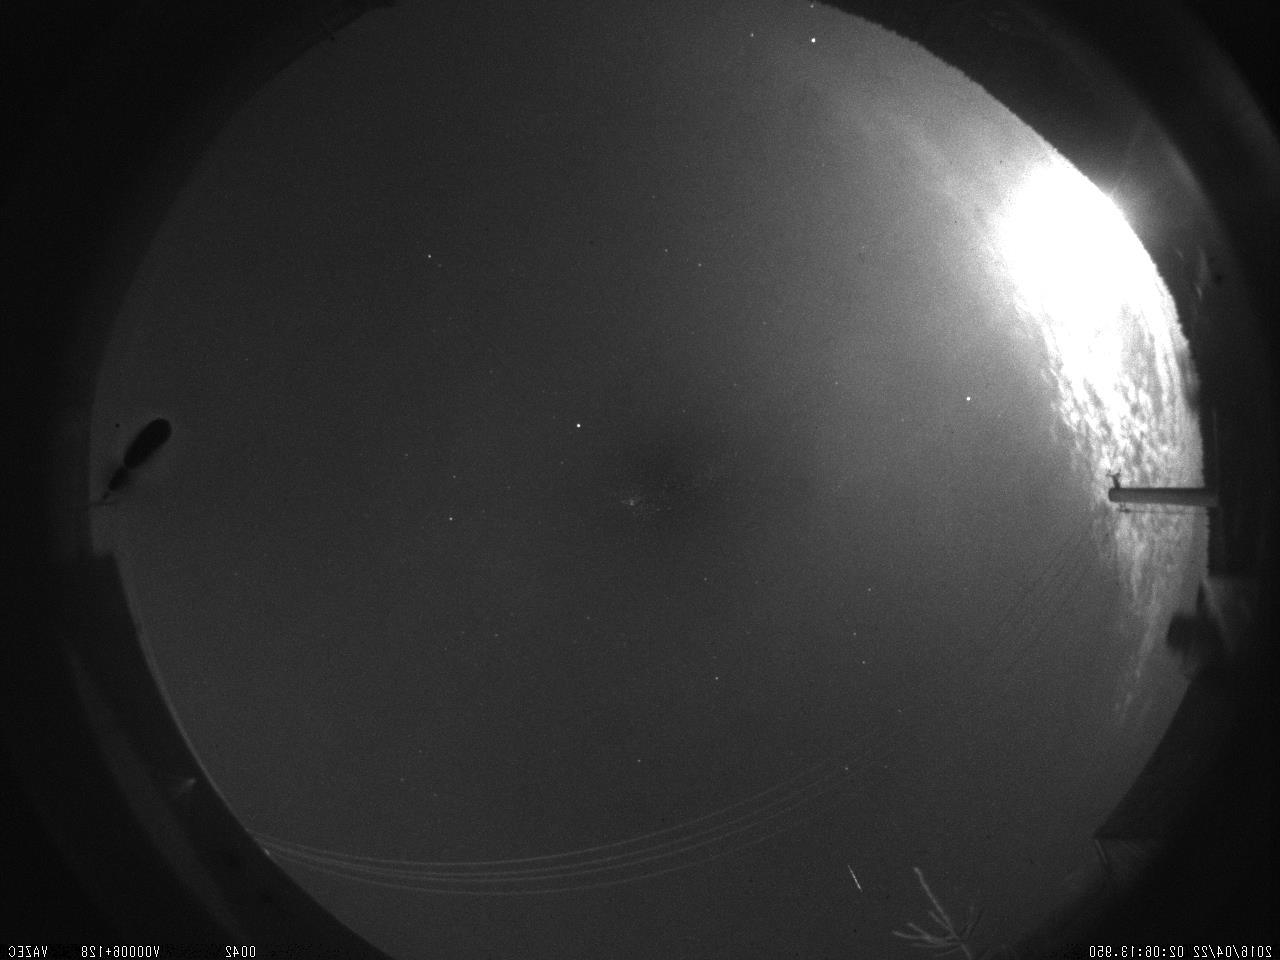meteor: (838, 857, 873, 905)
